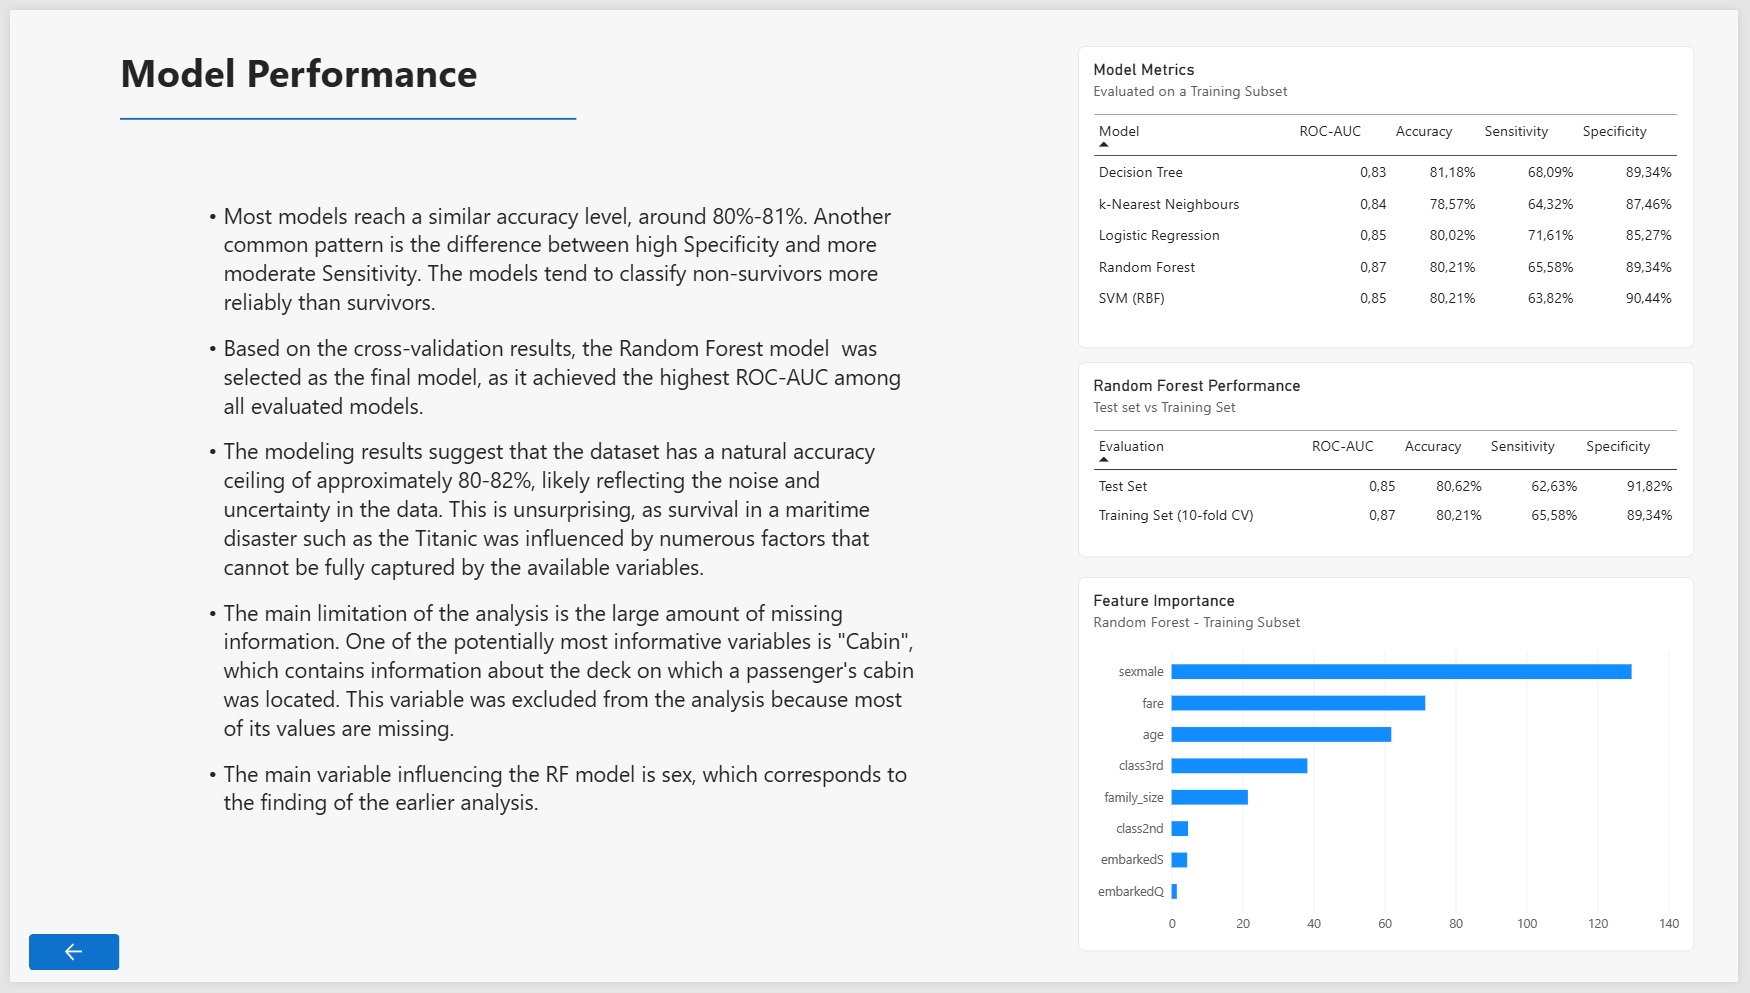

This screenshot's page, from the dashboard's own definition file:
{"tool":"powerbi","page":{"name":"II - Model Performance","canvas":[1920,1080],"ordinal":1},"visuals":[{"type":"actionButton","box":[21.5,1026.9,100.5,40.2],"z":0},{"type":"shape","box":[122.1,67.5,507,106.3],"z":1000},{"type":"textbox","box":[122.1,40.2,494,80.4],"z":2000},{"type":"tableEx","title":"Model Metrics","fields":{"Values":["model_comparison_export.model","model_comparison_export.roc_auc","model_comparison_export.accuracy","model_comparison_export.sensitivity","model_comparison_export.specificity"]},"box":[1186.3,40.2,685.1,336.1],"z":3000},{"type":"clusteredBarChart","title":"Feature Importance","fields":{"Category":["feature_importance_export.Feature"],"Y":["Min(feature_importance_export.Importance)"]},"box":[1186.3,630.5,685.1,416.5],"z":4000},{"type":"tableEx","title":"Random Forest Performance","fields":{"Values":["final_comparison_export.evaluation","final_comparison_export.roc_auc","final_comparison_export.accuracy","final_comparison_export.sensitivity","final_comparison_export.specificity"]},"box":[1186.3,390.6,685.1,216.9],"z":5000},{"type":"textbox","box":[201.1,173.8,810,821.5],"z":6000}]}

Visuals, with their boxes in screenshot pixels (x1, y1, x2, y2), scaled from the page's 1920x1080 canvas onto the 1750x993 screenshot:
actionButton: {"left": 20, "top": 944, "right": 111, "bottom": 981}
shape: {"left": 111, "top": 62, "right": 573, "bottom": 160}
textbox: {"left": 111, "top": 37, "right": 562, "bottom": 111}
"Model Metrics" tableEx: {"left": 1081, "top": 37, "right": 1706, "bottom": 346}
"Feature Importance" clusteredBarChart: {"left": 1081, "top": 580, "right": 1706, "bottom": 963}
"Random Forest Performance" tableEx: {"left": 1081, "top": 359, "right": 1706, "bottom": 559}
textbox: {"left": 183, "top": 160, "right": 922, "bottom": 915}
